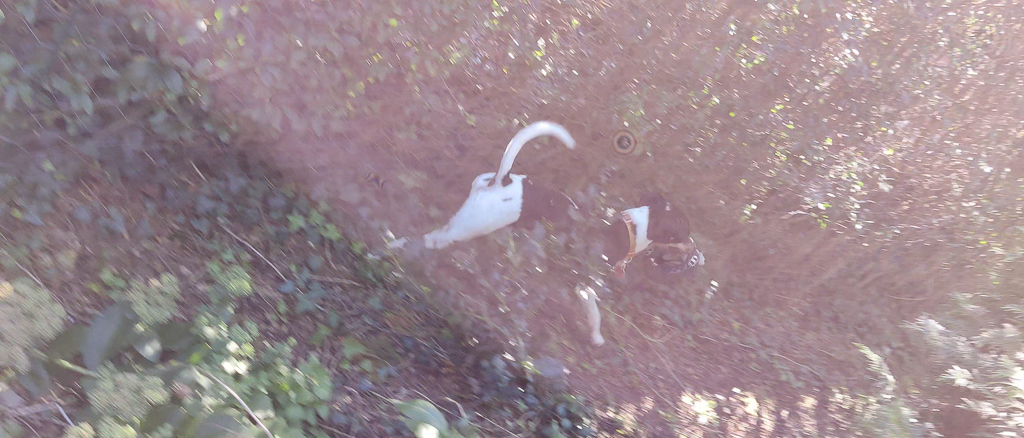Dog: (383, 116, 708, 352)
